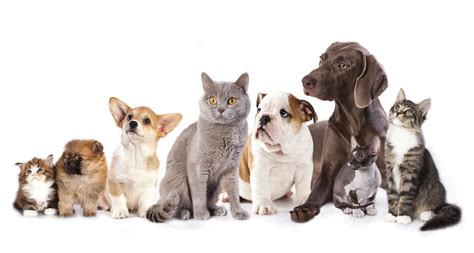cat: (155, 67, 250, 224), (389, 84, 465, 230), (319, 133, 384, 220), (11, 160, 58, 218)
dog: (301, 43, 387, 133), (252, 93, 312, 215), (106, 94, 162, 205), (63, 140, 110, 220)
